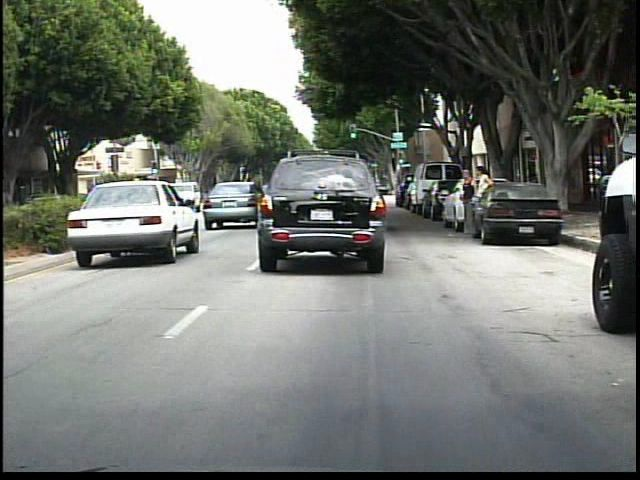person: (459, 168, 481, 240), (473, 163, 495, 235)
